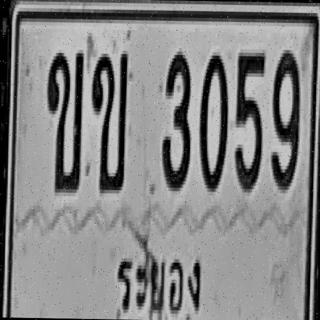A02: (44, 49, 84, 192), (90, 50, 128, 193)
N00: (198, 52, 228, 192)
N03: (160, 48, 192, 191)
N05: (234, 49, 266, 192)
N09: (270, 48, 300, 192)
P53: (112, 238, 204, 316)
